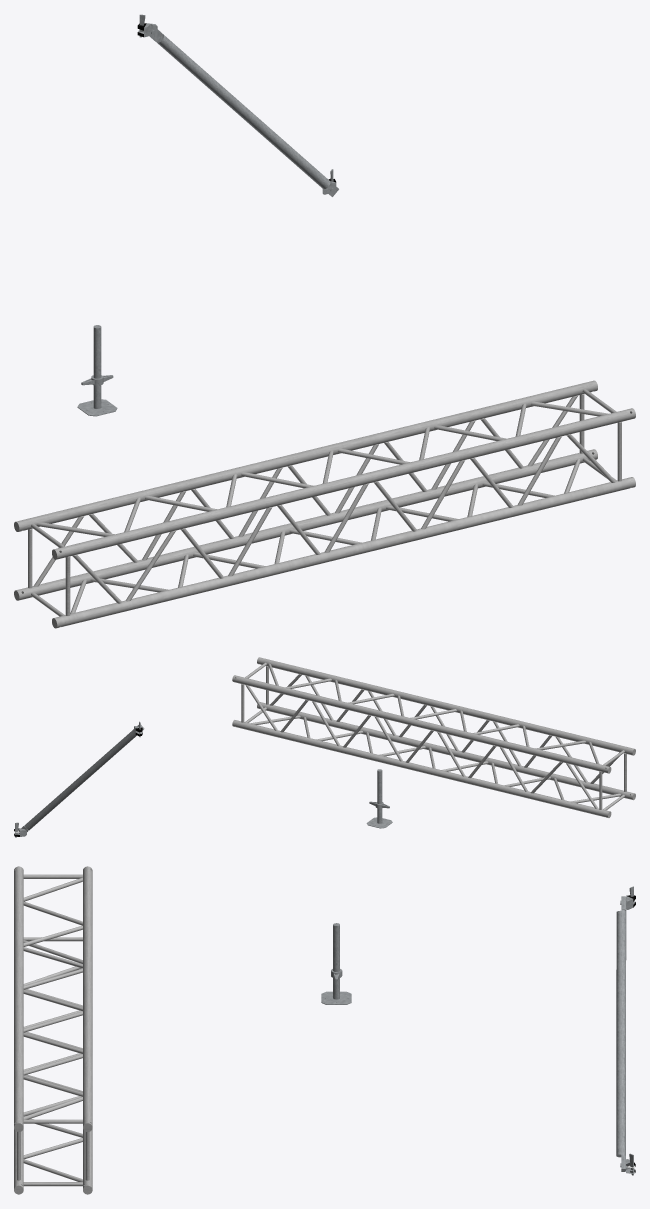
The model's file is Milos_M390L_3000_Quattro_Truss_Section-52b0d6c6.glb.
The picture shows the model from 3 angles, top to bottom: view 1: azimuth 30°, elevation 25°; view 2: azimuth 150°, elevation 25°; view 3: azimuth 270°, elevation 25°; orthographic projection. The views are drawn at different scales.
Visible parts, largest first — view 1: Geom3D (×2), Geom3D_; view 2: Geom3D (×2), Geom3D_; view 3: Geom3D (×2), Geom3D_.
Part boxes in pixels (box(x1,y1,x2,y2)): Geom3D (×2): box(14, 24, 635, 628); Geom3D_: box(77, 325, 117, 416); Geom3D (×2): box(27, 657, 635, 827); Geom3D_: box(366, 769, 392, 828); Geom3D (×2): box(14, 866, 626, 1194); Geom3D_: box(321, 923, 351, 1004).
Size of the model in its own units: 3.2 by 1.3 by 3.07.
Materials: 5 (3 with a texture image).
